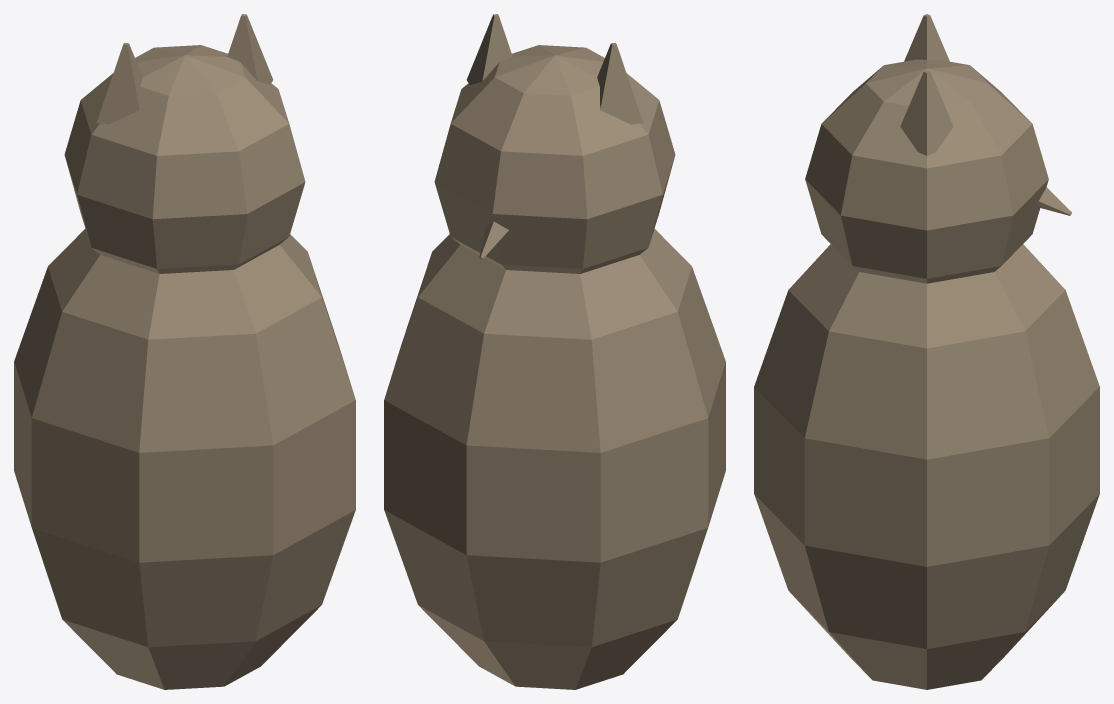
Rendered from owl.glb.
3 views of the same model, side by side, from view 1: azimuth 30°, elevation 25°; view 2: azimuth 150°, elevation 25°; view 3: azimuth 270°, elevation 25° (orthographic). The views are drawn at different scales.
Visible parts, largest first — view 1: owl, head; view 2: owl, head; view 3: owl, head.
Part boxes in pixels (x1=…): owl: x1=14, y1=228, x2=355, y2=689; head: x1=64, y1=14, x2=305, y2=273; owl: x1=384, y1=228, x2=725, y2=689; head: x1=434, y1=14, x2=675, y2=273; owl: x1=754, y1=244, x2=1099, y2=689; head: x1=805, y1=14, x2=1071, y2=283.
Bounding box in the file's own units: 0.312 × 0.635 × 0.312.
